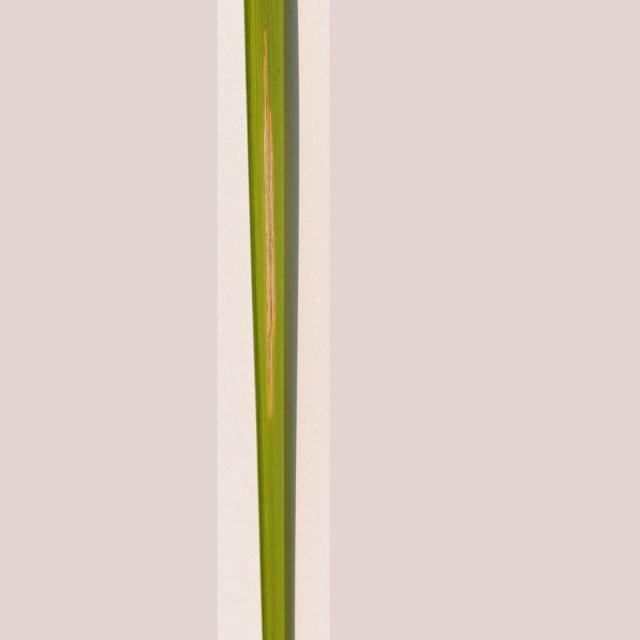leaf blight: (248, 23, 289, 430)
